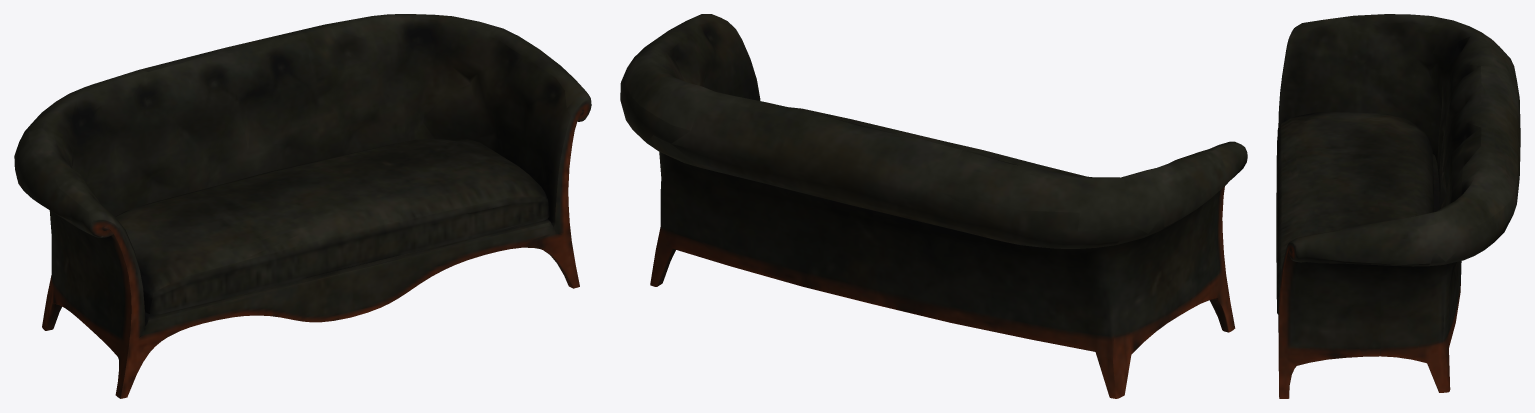
Rendered from sofa_02.glb.
3 views of the same model, side by side, from view 1: azimuth 30°, elevation 25°; view 2: azimuth 150°, elevation 25°; view 3: azimuth 270°, elevation 25° (orthographic). The views are drawn at different scales.
Visible parts, largest first — view 1: mesh; view 2: mesh; view 3: mesh.
Part boxes in pixels (bbox=[...]): mesh: bbox=[14, 14, 591, 398]; mesh: bbox=[620, 14, 1247, 398]; mesh: bbox=[1276, 14, 1520, 398].
Bounding box in the file's own units: 1.81 × 0.7095 × 0.8176.
Materials: 1 (1 with a texture image).
